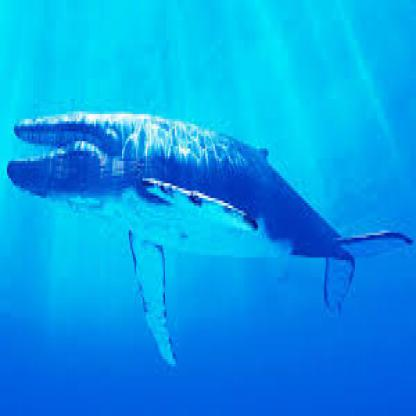blue_whale: (6, 79, 413, 369)
